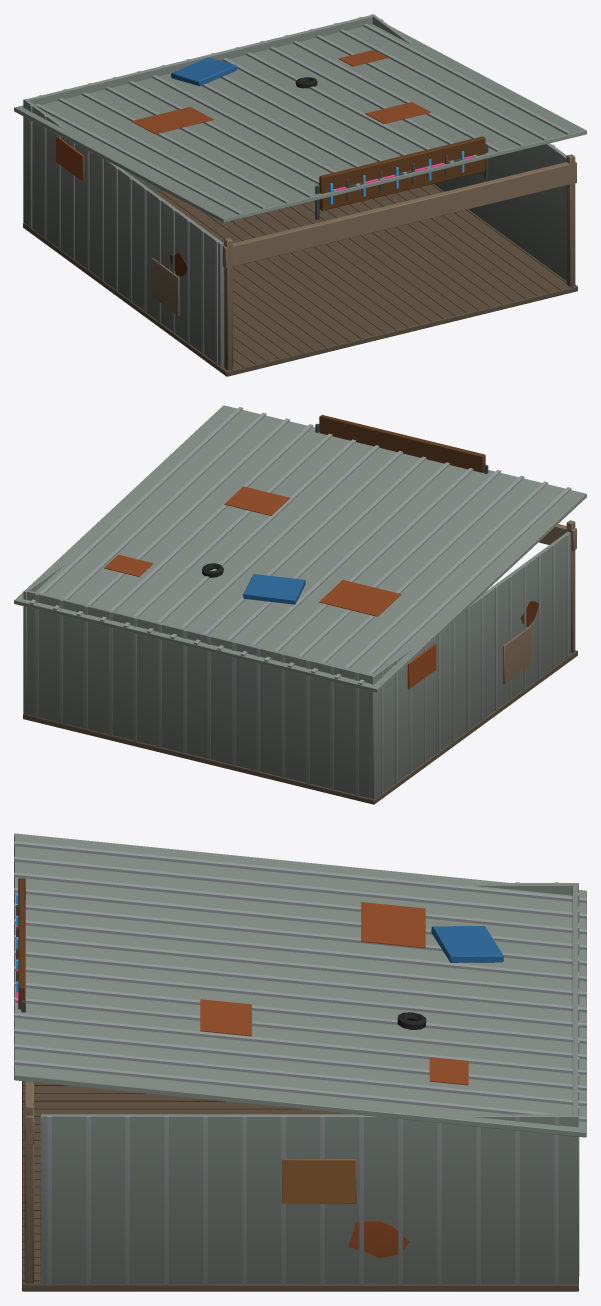
The model's file is 191_casino_baraque.fbx.
The picture shows the model from 3 angles, top to bottom: view 1: azimuth 30°, elevation 25°; view 2: azimuth 150°, elevation 25°; view 3: azimuth 270°, elevation 25°; orthographic projection. The views are drawn at different scales.
Visible parts, largest first — view 1: Murs, Toit, Enseigne; view 2: Toit, Murs, Enseigne; view 3: Toit, Murs, Enseigne.
Part boxes in pixels (bbox=[...]): Murs: bbox=[23, 14, 577, 376]; Toit: bbox=[14, 23, 586, 222]; Enseigne: bbox=[315, 136, 488, 220]; Toit: bbox=[14, 405, 586, 692]; Murs: bbox=[23, 520, 577, 804]; Enseigne: bbox=[315, 415, 488, 473]; Toit: bbox=[14, 833, 586, 1137]; Murs: bbox=[22, 882, 579, 1291]; Enseigne: bbox=[16, 878, 25, 1012].
Size of the model in its own units: 8.4 by 3.92 by 8.4.
Materials: 1 (1 with a texture image).
